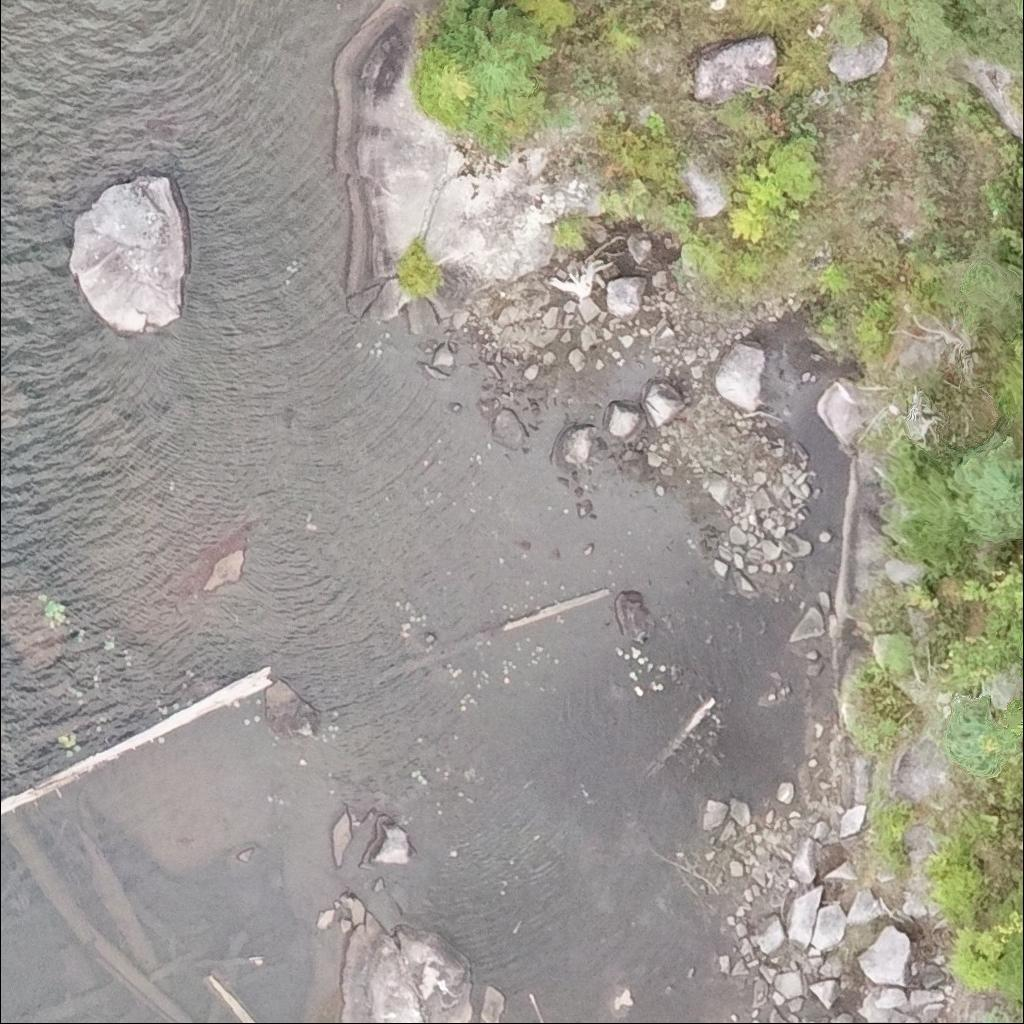crown: (431, 0, 562, 101), (944, 430, 1023, 542), (418, 46, 477, 132), (994, 333, 1023, 419), (1015, 617, 1023, 689), (1020, 724, 1023, 742)
